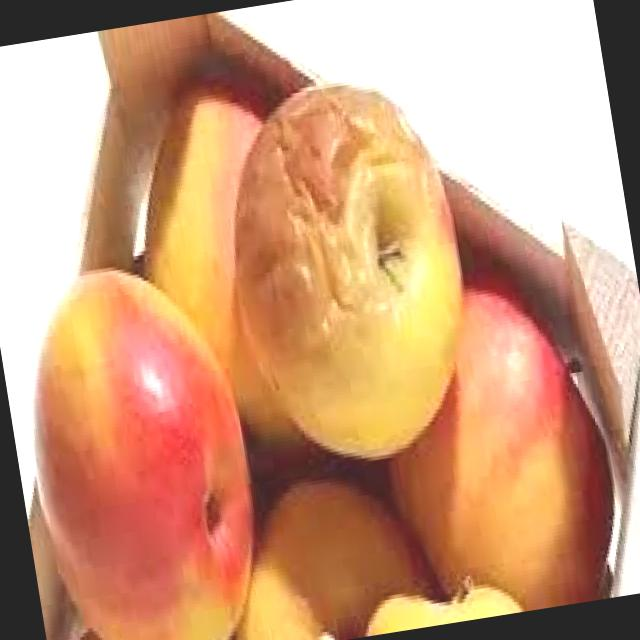cardboard: (54, 1, 304, 124), (555, 212, 640, 503)
organic: (0, 63, 610, 640)
